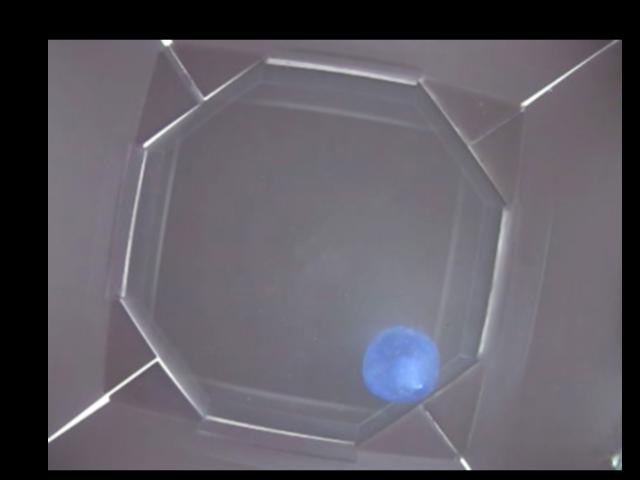Potato: (363, 326, 432, 402)
